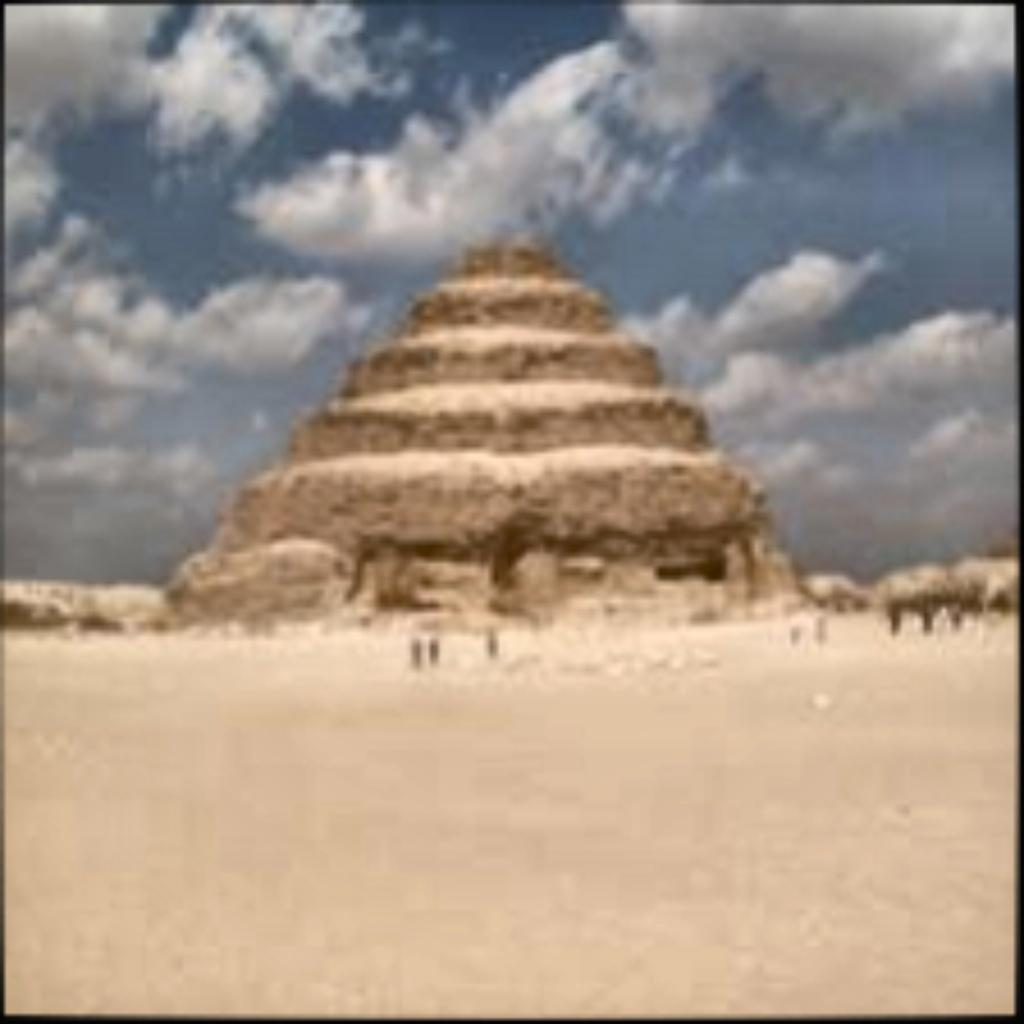Pyramid of Djoser: (160, 220, 805, 626)
